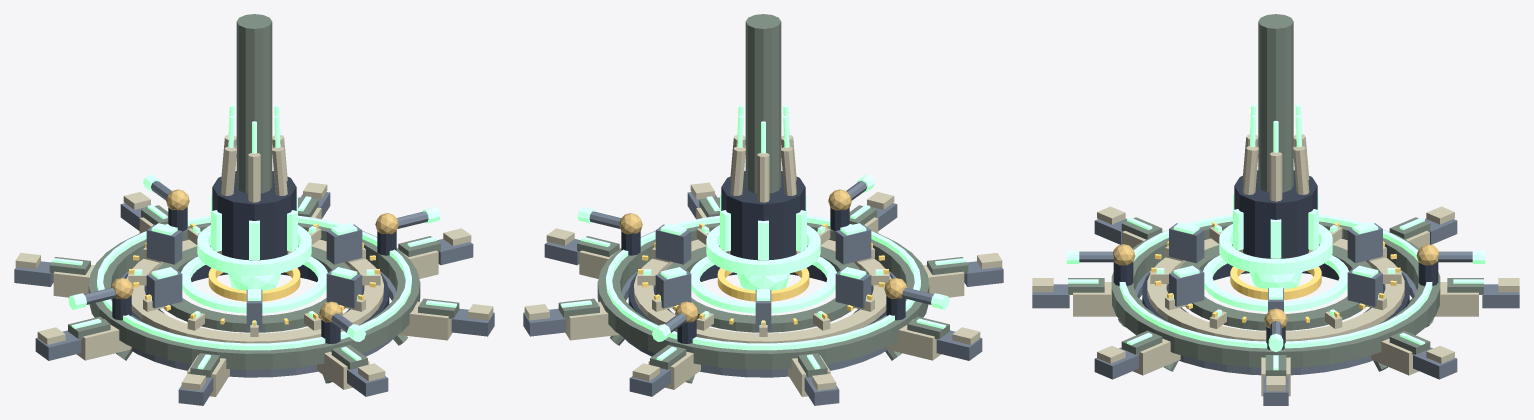
Rendered from relay_2_jupiter.glb.
3 views of the same model, side by side, from view 1: azimuth 30°, elevation 25°; view 2: azimuth 150°, elevation 25°; view 3: azimuth 270°, elevation 25° (orthographic).
Visible parts, largest first — view 1: RLY_2, RLY_1, RLY_3, RLY_4, RLY_0, RLY_5, RLY_6; view 2: RLY_2, RLY_1, RLY_3, RLY_4, RLY_0, RLY_5, RLY_6; view 3: RLY_2, RLY_1, RLY_3, RLY_4, RLY_0, RLY_5, RLY_6.
Boxes of the visible parts, box(x1,y1,x2,y2) form: RLY_2: box(49, 14, 459, 383); RLY_1: box(15, 135, 493, 396); RLY_3: box(52, 105, 456, 369); RLY_4: box(14, 181, 494, 405); RLY_0: box(112, 171, 396, 343); RLY_5: box(129, 223, 379, 326); RLY_6: box(110, 189, 398, 322); RLY_2: box(558, 14, 968, 383); RLY_1: box(524, 135, 1002, 396); RLY_3: box(561, 105, 965, 369); RLY_4: box(523, 181, 1003, 405); RLY_0: box(621, 171, 905, 343); RLY_5: box(638, 223, 888, 326); RLY_6: box(619, 189, 907, 322); RLY_2: box(1068, 14, 1483, 377); RLY_1: box(1032, 134, 1519, 396); RLY_3: box(1066, 104, 1485, 370); RLY_4: box(1032, 218, 1519, 405); RLY_0: box(1113, 170, 1438, 349); RLY_5: box(1151, 222, 1400, 322); RLY_6: box(1113, 244, 1438, 328).
Size of the model in its own units: 9.92 by 6.86 by 9.92.
